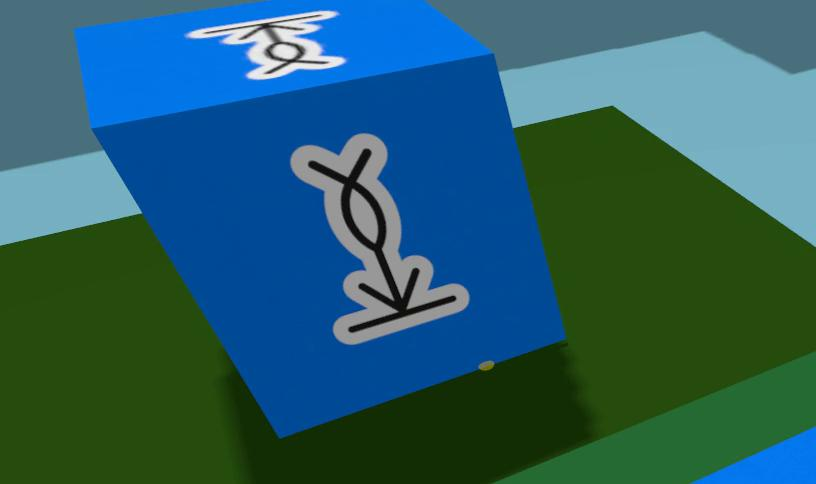KFS_REAL: (76, 0, 564, 436), (290, 135, 468, 344), (186, 11, 345, 79)
